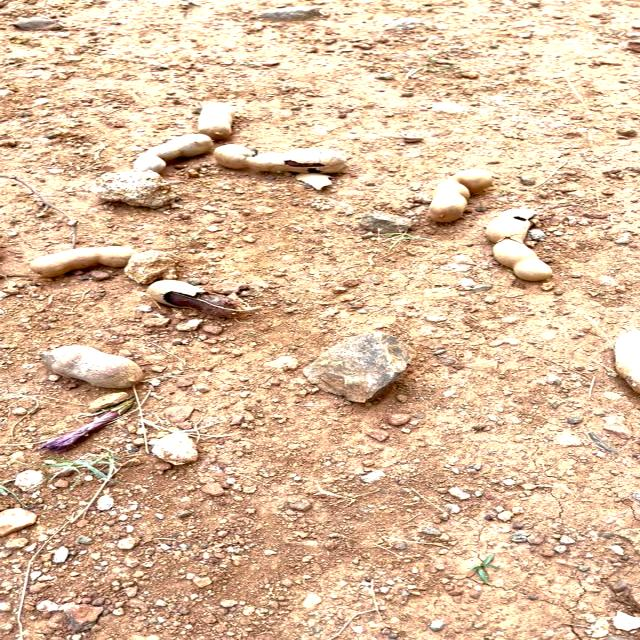tamarind: (486, 206, 553, 286), (145, 277, 265, 319), (45, 344, 152, 389), (217, 144, 355, 174), (431, 164, 489, 226), (30, 246, 136, 275), (133, 133, 212, 170), (202, 101, 236, 140)
